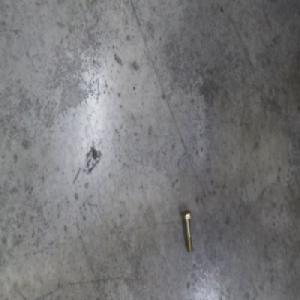Bolt: (179, 209, 191, 254)
